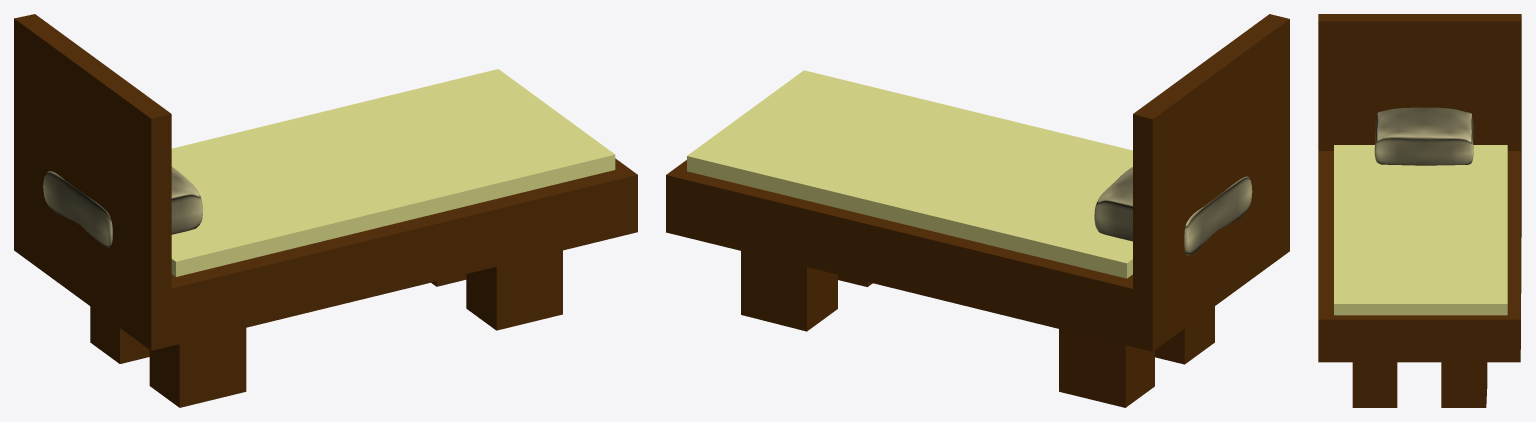
The picture shows the model from 3 angles, left to right: view 1: azimuth 30°, elevation 25°; view 2: azimuth 150°, elevation 25°; view 3: azimuth 270°, elevation 25°; orthographic projection. The views are drawn at different scales.
Visible parts, largest first — view 1: bed; view 2: bed; view 3: bed.
Part boxes in pixels (left/top/right/bottom): bed: left=14, top=14, right=637, bottom=407; bed: left=666, top=14, right=1289, bottom=407; bed: left=1318, top=14, right=1521, bottom=407.
Size of the model in its own units: 545 by 338 by 264.
